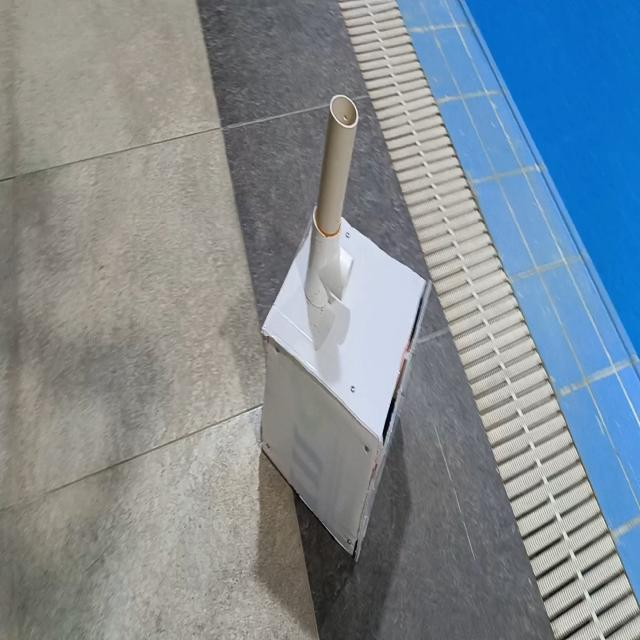Cube: (259, 204, 429, 562)
